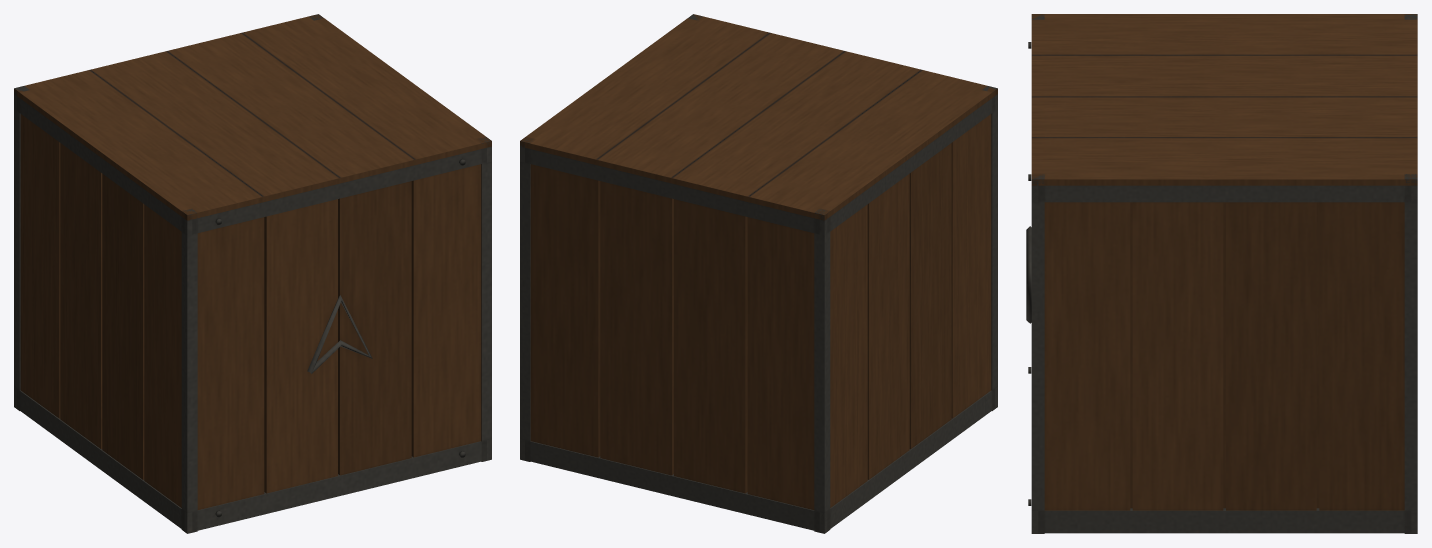
Rendered from arena-crate.glb.
3 renders of one model, left to right at view 1: azimuth 30°, elevation 25°; view 2: azimuth 150°, elevation 25°; view 3: azimuth 270°, elevation 25°, orthographic. The views are drawn at different scales.
Parts seen in each view (by area): view 1: arena-crate; view 2: arena-crate; view 3: arena-crate.
Boxes of the visible parts, <box> form: arena-crate: <box>14,14,491,533</box>; arena-crate: <box>520,14,997,533</box>; arena-crate: <box>1026,14,1417,533</box>.
Bounding box in the file's own units: 1.2 × 1.2 × 1.2.
Materials: 1 (1 with a texture image).
